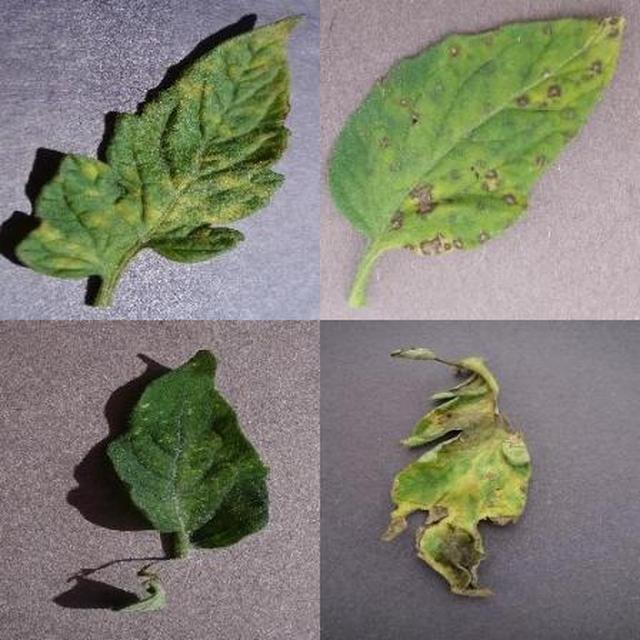Leaf Mold: (214, 198, 640, 640)
